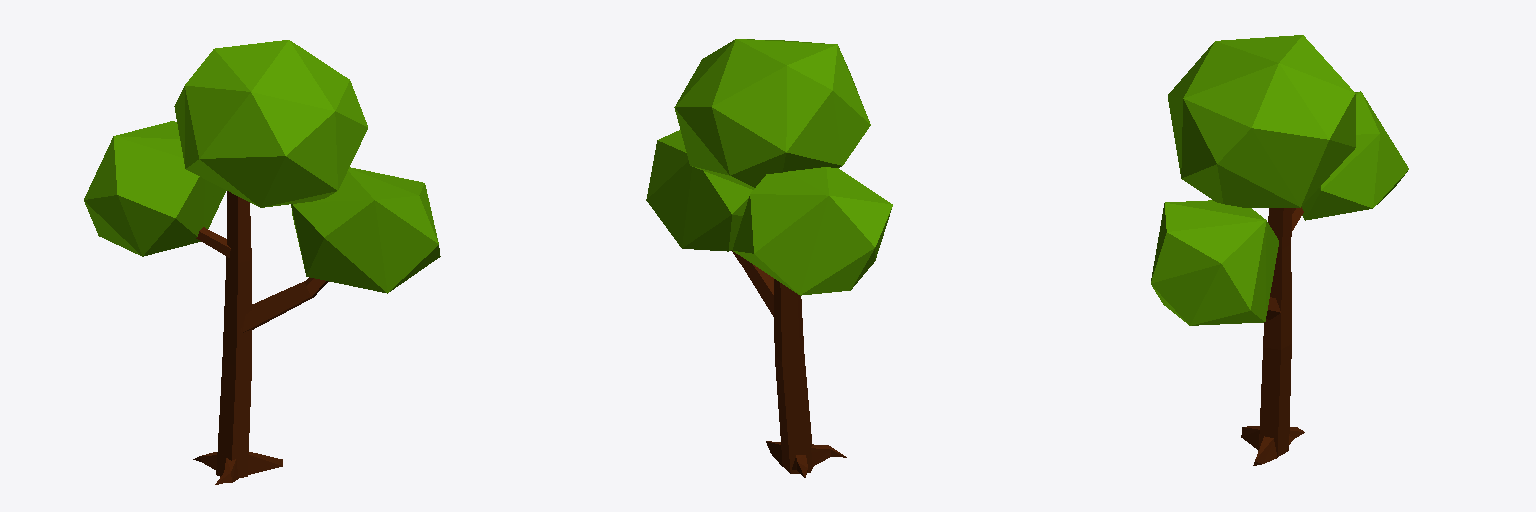
The model's file is tree02.obj.
3 renders of one model, left to right at view 1: azimuth 30°, elevation 25°; view 2: azimuth 150°, elevation 25°; view 3: azimuth 270°, elevation 25°, orthographic.
Parts seen in each view (by area): view 1: Object.1; view 2: Object.1; view 3: Object.1.
Part boxes in pixels (left/top/right/bottom): Object.1: left=84, top=40, right=440, bottom=484; Object.1: left=646, top=39, right=892, bottom=477; Object.1: left=1151, top=35, right=1408, bottom=465.
Bounding box in the file's own units: 5 × 7.13 × 4.01.